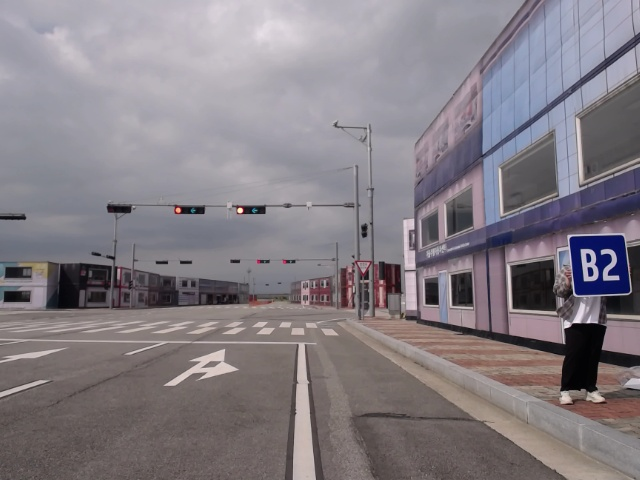delivery_b2: (565, 233, 633, 297)
left_green_4: (233, 202, 268, 215), (172, 204, 207, 216), (281, 258, 297, 265), (255, 258, 270, 265)
